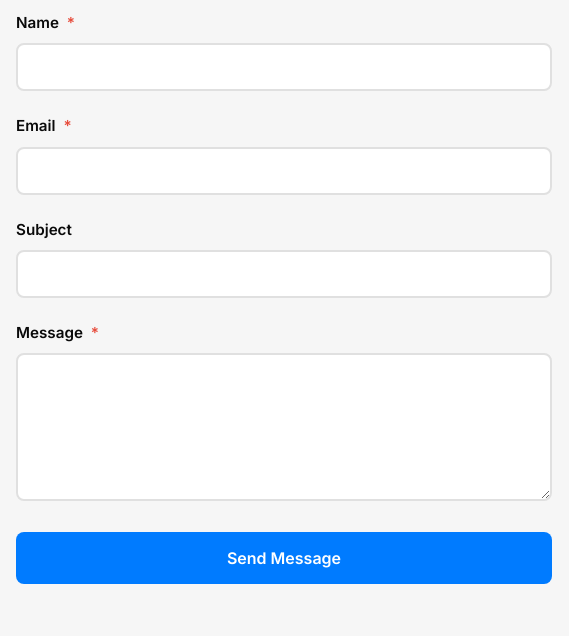
Test: ContactForm Component › displays email validation error for invalid email
Type "invalid-email" into the field labelled "Email *" at (284, 171), box left=16, top=147, right=552, bottom=195
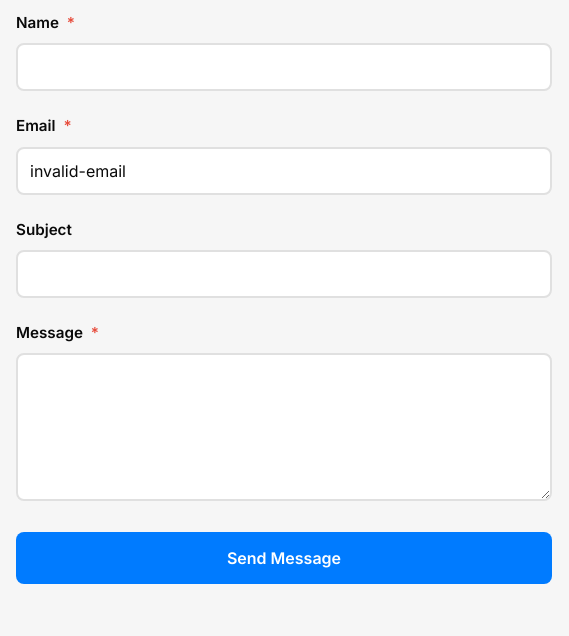
Click the button "Send Message" at (284, 558), box left=16, top=532, right=552, bottom=584
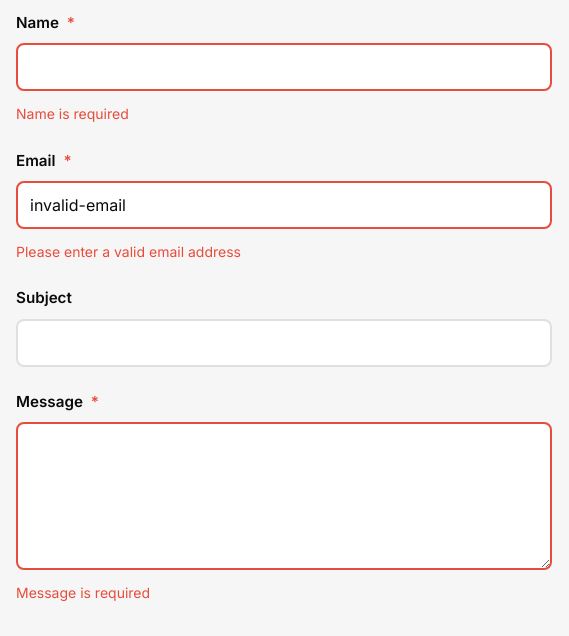
Check: the text "Please enter a valid email address" is shown, box left=16, top=243, right=241, bottom=260
